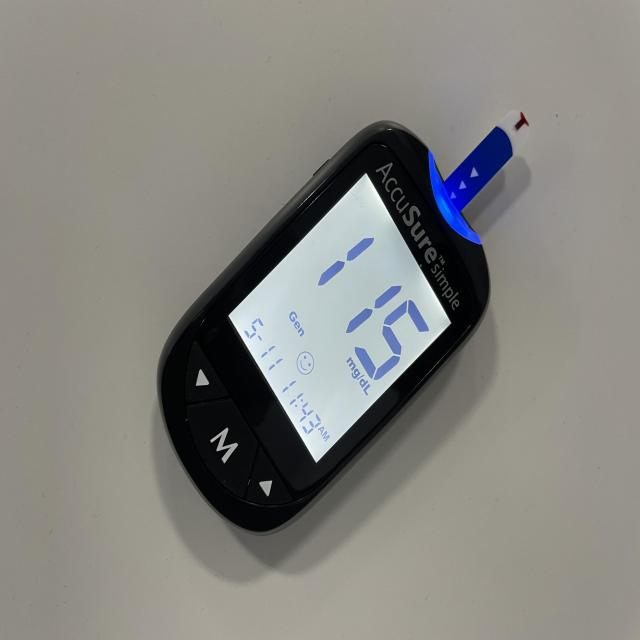gluco: (157, 123, 515, 539)
